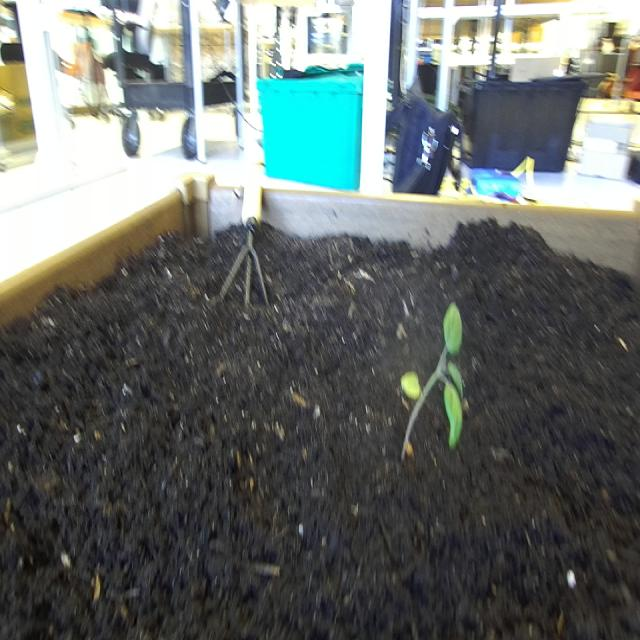Healthy: (392, 294, 470, 471)
